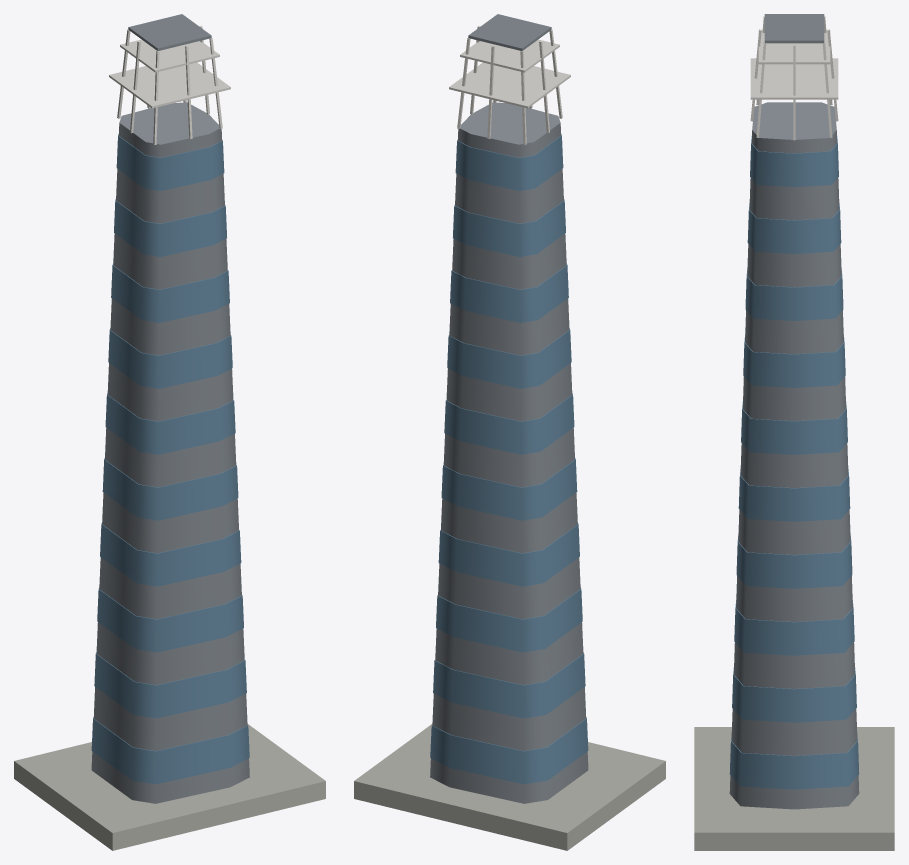
File: mobile-low.glb
3 views of the same model, side by side, from view 1: azimuth 30°, elevation 25°; view 2: azimuth 150°, elevation 25°; view 3: azimuth 270°, elevation 25° (orthographic).
Parts seen in each view (by area): view 1: lm.crown-tower; view 2: lm.crown-tower; view 3: lm.crown-tower.
Boxes of the visible parts, x1=… form: lm.crown-tower: x1=14, y1=14, x2=325, y2=850; lm.crown-tower: x1=354, y1=14, x2=665, y2=850; lm.crown-tower: x1=694, y1=14, x2=894, y2=850.
Size of the model in its own units: 100 by 339 by 80.
